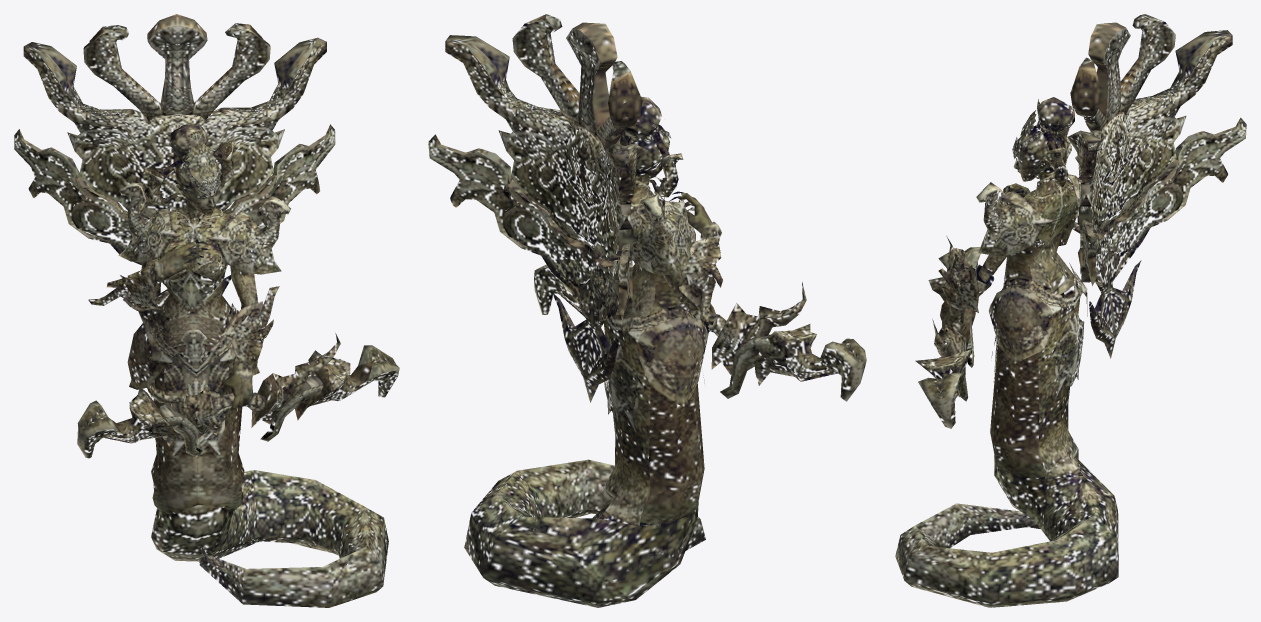
File: 12t_statue_06.glb
3 views of the same model, side by side, from view 1: azimuth 30°, elevation 25°; view 2: azimuth 150°, elevation 25°; view 3: azimuth 270°, elevation 25° (orthographic). The views are drawn at different scales.
Parts seen in each view (by area): view 1: 12zi_statue_06; view 2: 12zi_statue_06; view 3: 12zi_statue_06.
Boxes of the visible parts, bbox=[...] form: 12zi_statue_06: bbox=[14, 14, 399, 607]; 12zi_statue_06: bbox=[428, 14, 866, 607]; 12zi_statue_06: bbox=[895, 14, 1246, 607].
Size of the model in its own units: 5.17 by 8.12 by 4.96.
1 material, 1 textured.
